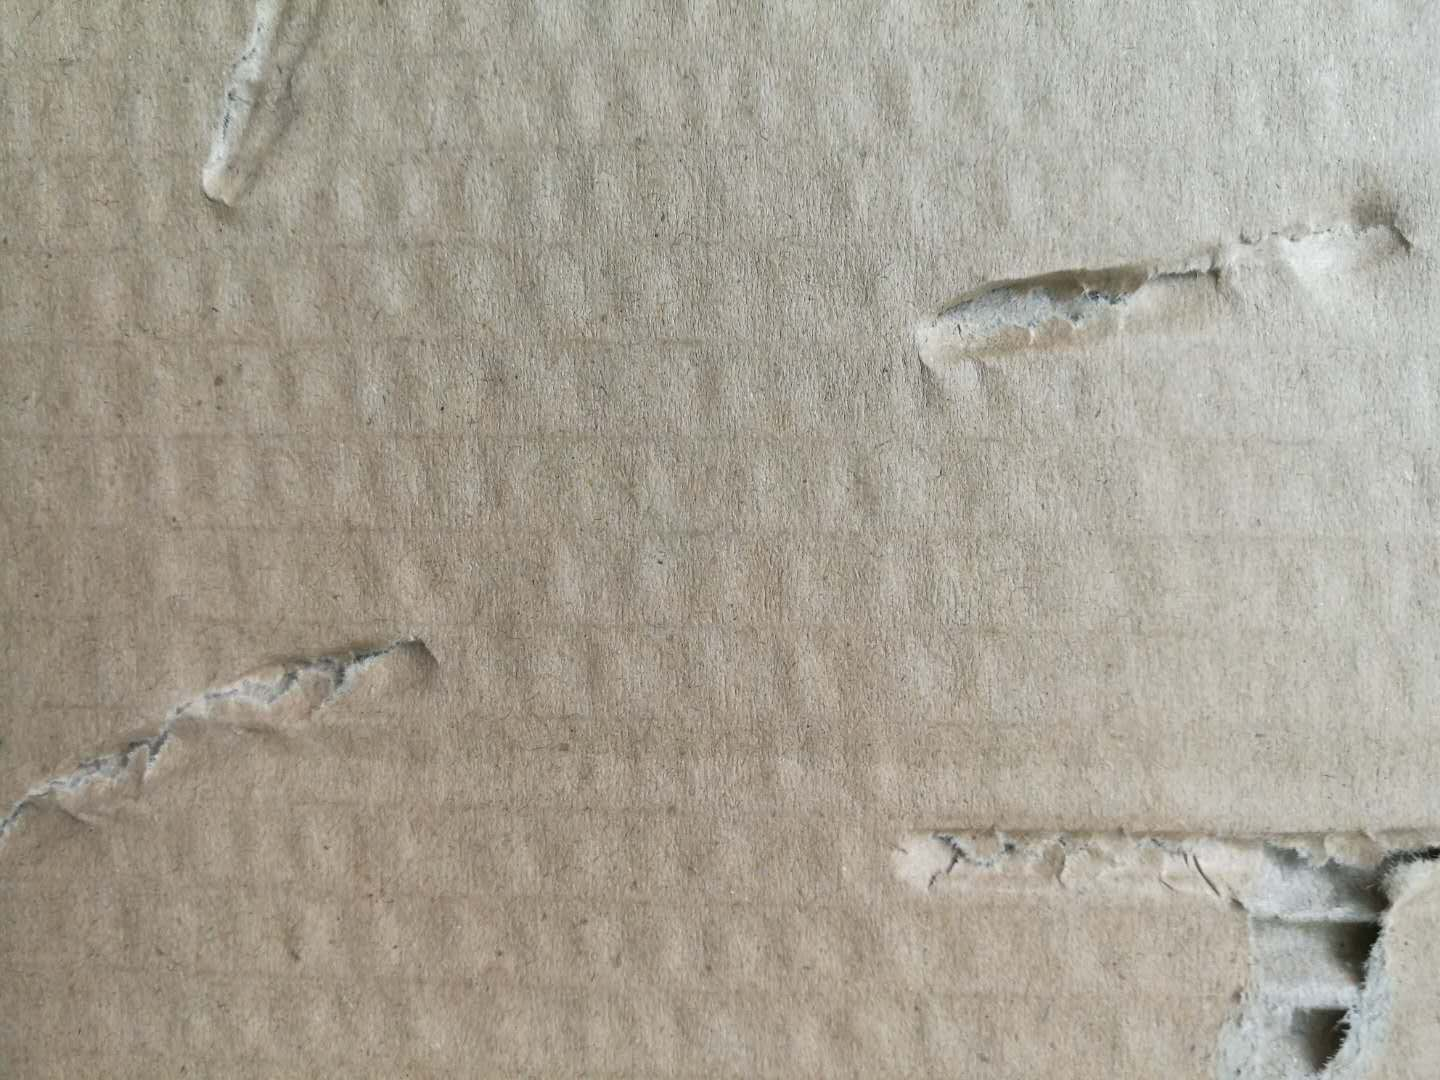defect: (875, 777, 1439, 1080), (887, 167, 1432, 413), (3, 615, 468, 880), (166, 5, 356, 242)
